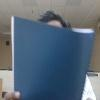notebook: (10, 15, 96, 99)
